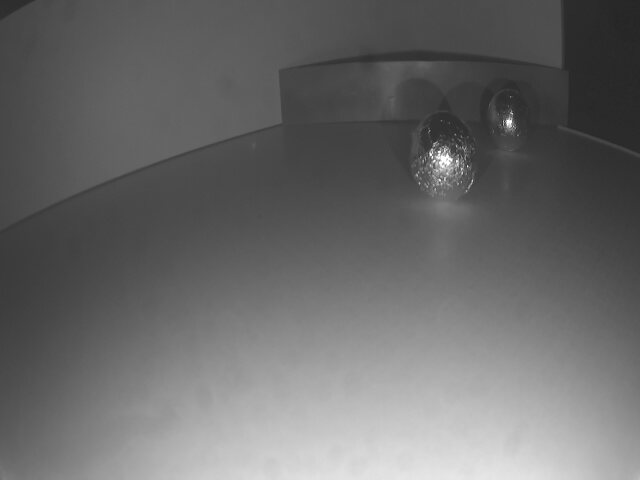Green: (278, 68, 569, 127)
Live: (407, 111, 480, 201), (486, 89, 534, 154)
